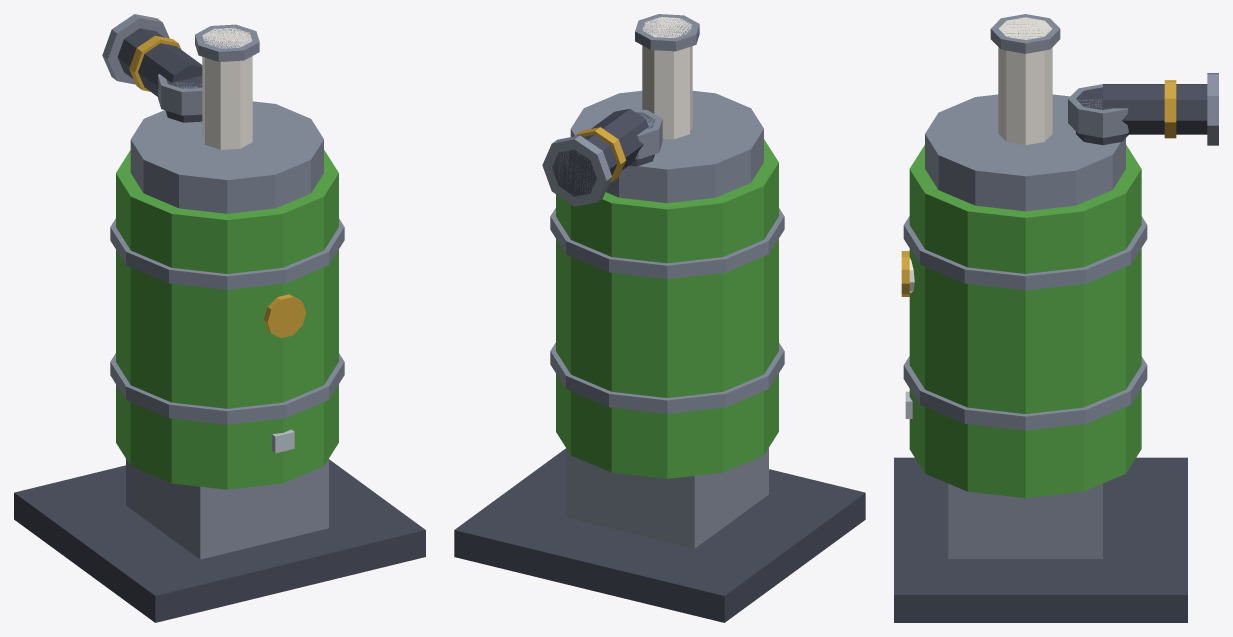
The model's file is filter.glb.
3 views of the same model, side by side, from view 1: azimuth 30°, elevation 25°; view 2: azimuth 150°, elevation 25°; view 3: azimuth 270°, elevation 25° (orthographic). The views are drawn at different scales.
Parts seen in each view (by area): view 1: filter; view 2: filter; view 3: filter.
Part boxes in pixels (x1,y1,x2,y2): filter: (14, 14, 425, 622); filter: (454, 14, 865, 622); filter: (894, 14, 1218, 622).
Size of the model in its own units: 0.84 by 1.5 by 0.84.
Materials: 1 (1 with a texture image).
